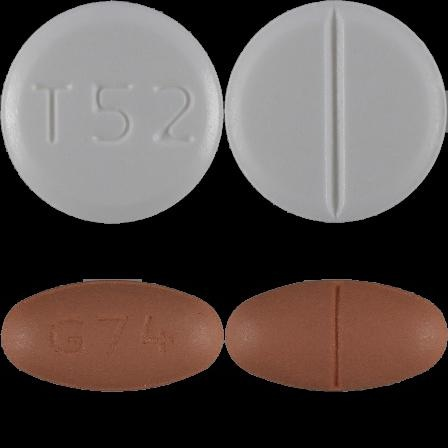55289-720: (0, 0, 224, 224)
